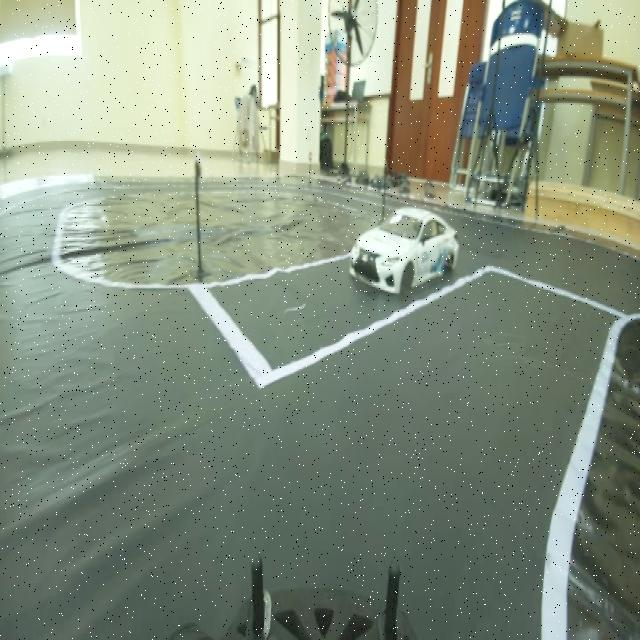car: (353, 195, 463, 295)
